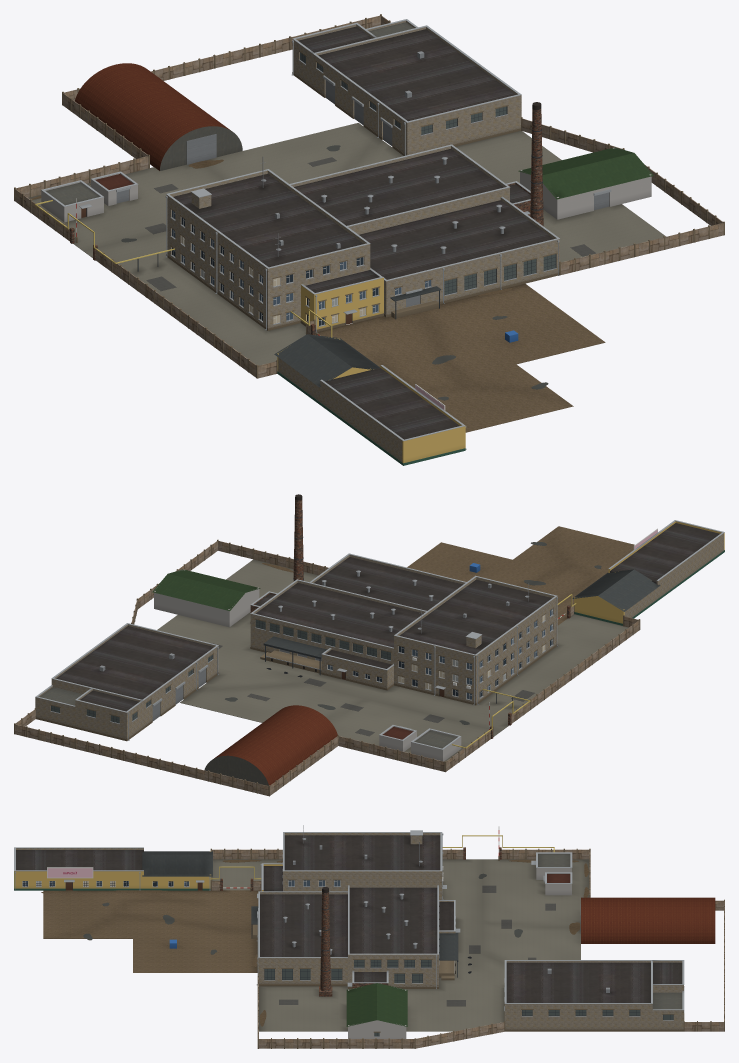
Rendered from bakery.glb.
3 views of the same model, one above another, from view 1: azimuth 30°, elevation 25°; view 2: azimuth 150°, elevation 25°; view 3: azimuth 270°, elevation 25° (orthographic). The views are drawn at different scales.
Visible parts, largest first — view 1: bakery; view 2: bakery; view 3: bakery.
Part boxes in pixels (x1,y1,x2,y2): bakery: (14, 14, 724, 465); bakery: (14, 494, 724, 796); bakery: (14, 825, 724, 1048).
Bounding box in the file's own units: 101 × 26 × 159.
Materials: 39 (17 with a texture image).
